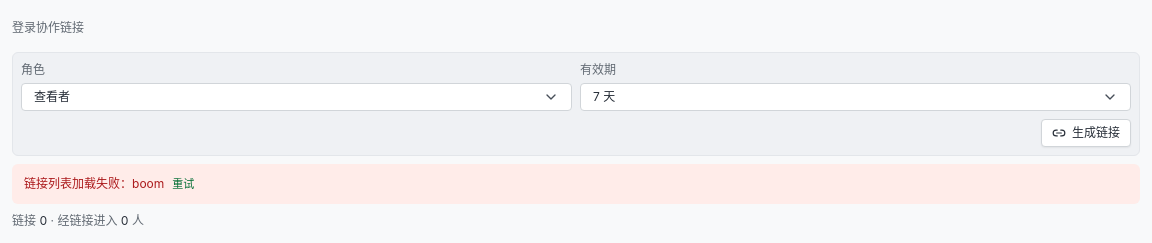
it: B3 段内错误行（R115 批10：读失败上屏 + 重试，不再静默假空态） › LinksSection / AccessSection：error 上屏，空态与 tabs 骨架让位
Check: the message "链接列表加载失败：boom 重试" is shown, box top-left (12, 164), bottom-right (1140, 204)
Click the button with test id "collab-links-error-retry". click: [183, 184]
box: top-left (168, 172), bottom-right (198, 196)
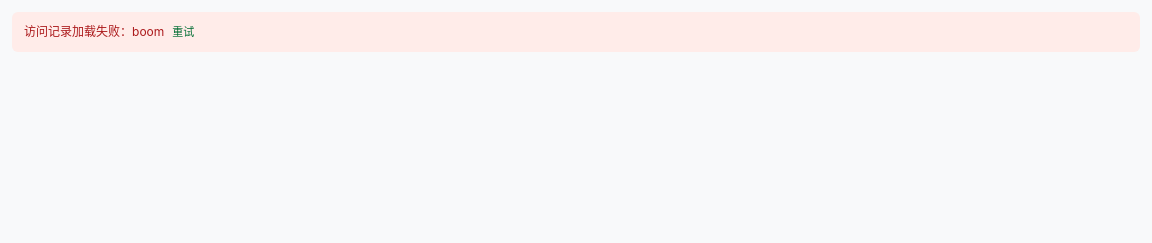
Check: the message "访问记录加载失败：boom 重试" is shown, box top-left (12, 12), bottom-right (1140, 52)
